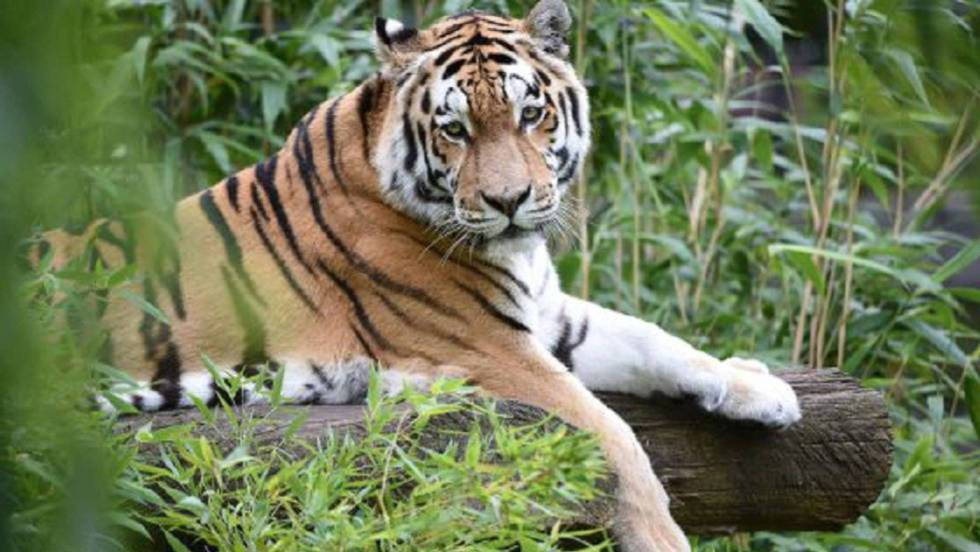Tigrew: (37, 25, 829, 523)
